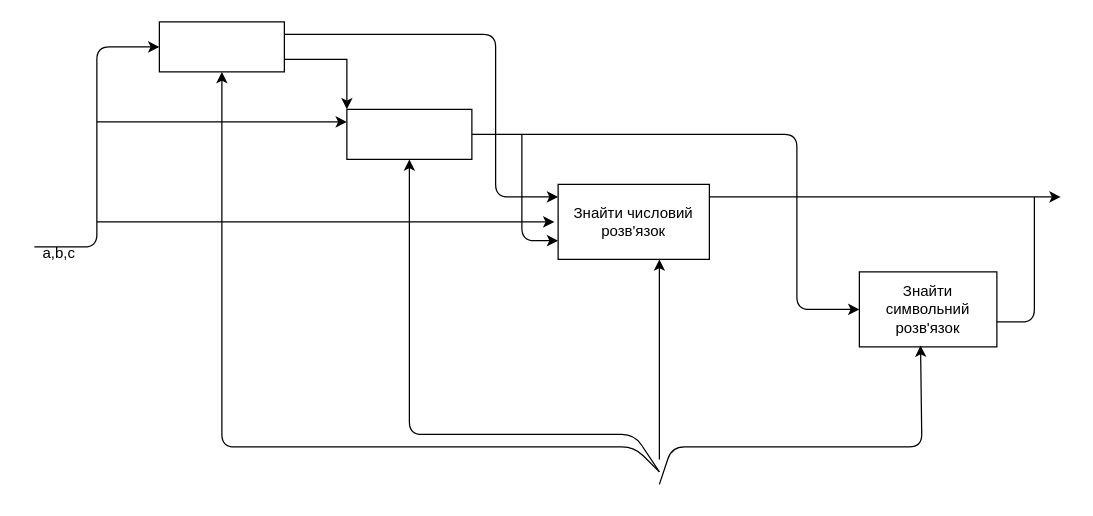
Image size: 1093x516. Some labels were removed from this diagram. The shapes that lost their labels are listed below. From the top down, each one's centre as x and y in pixels, then its label:
At (x=221, y=46): "Знайти D".
At (x=409, y=133): "Знайти n".
